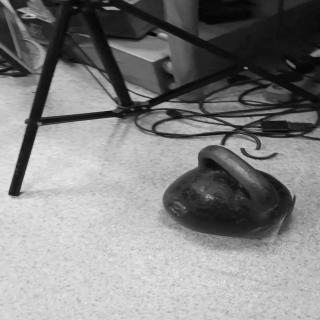kettlebell: (158, 145, 304, 240)
